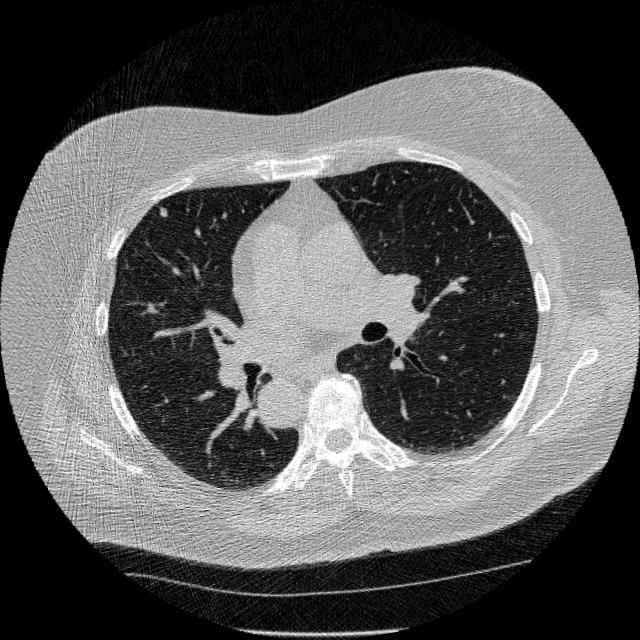nodule: (152, 198, 178, 223)
